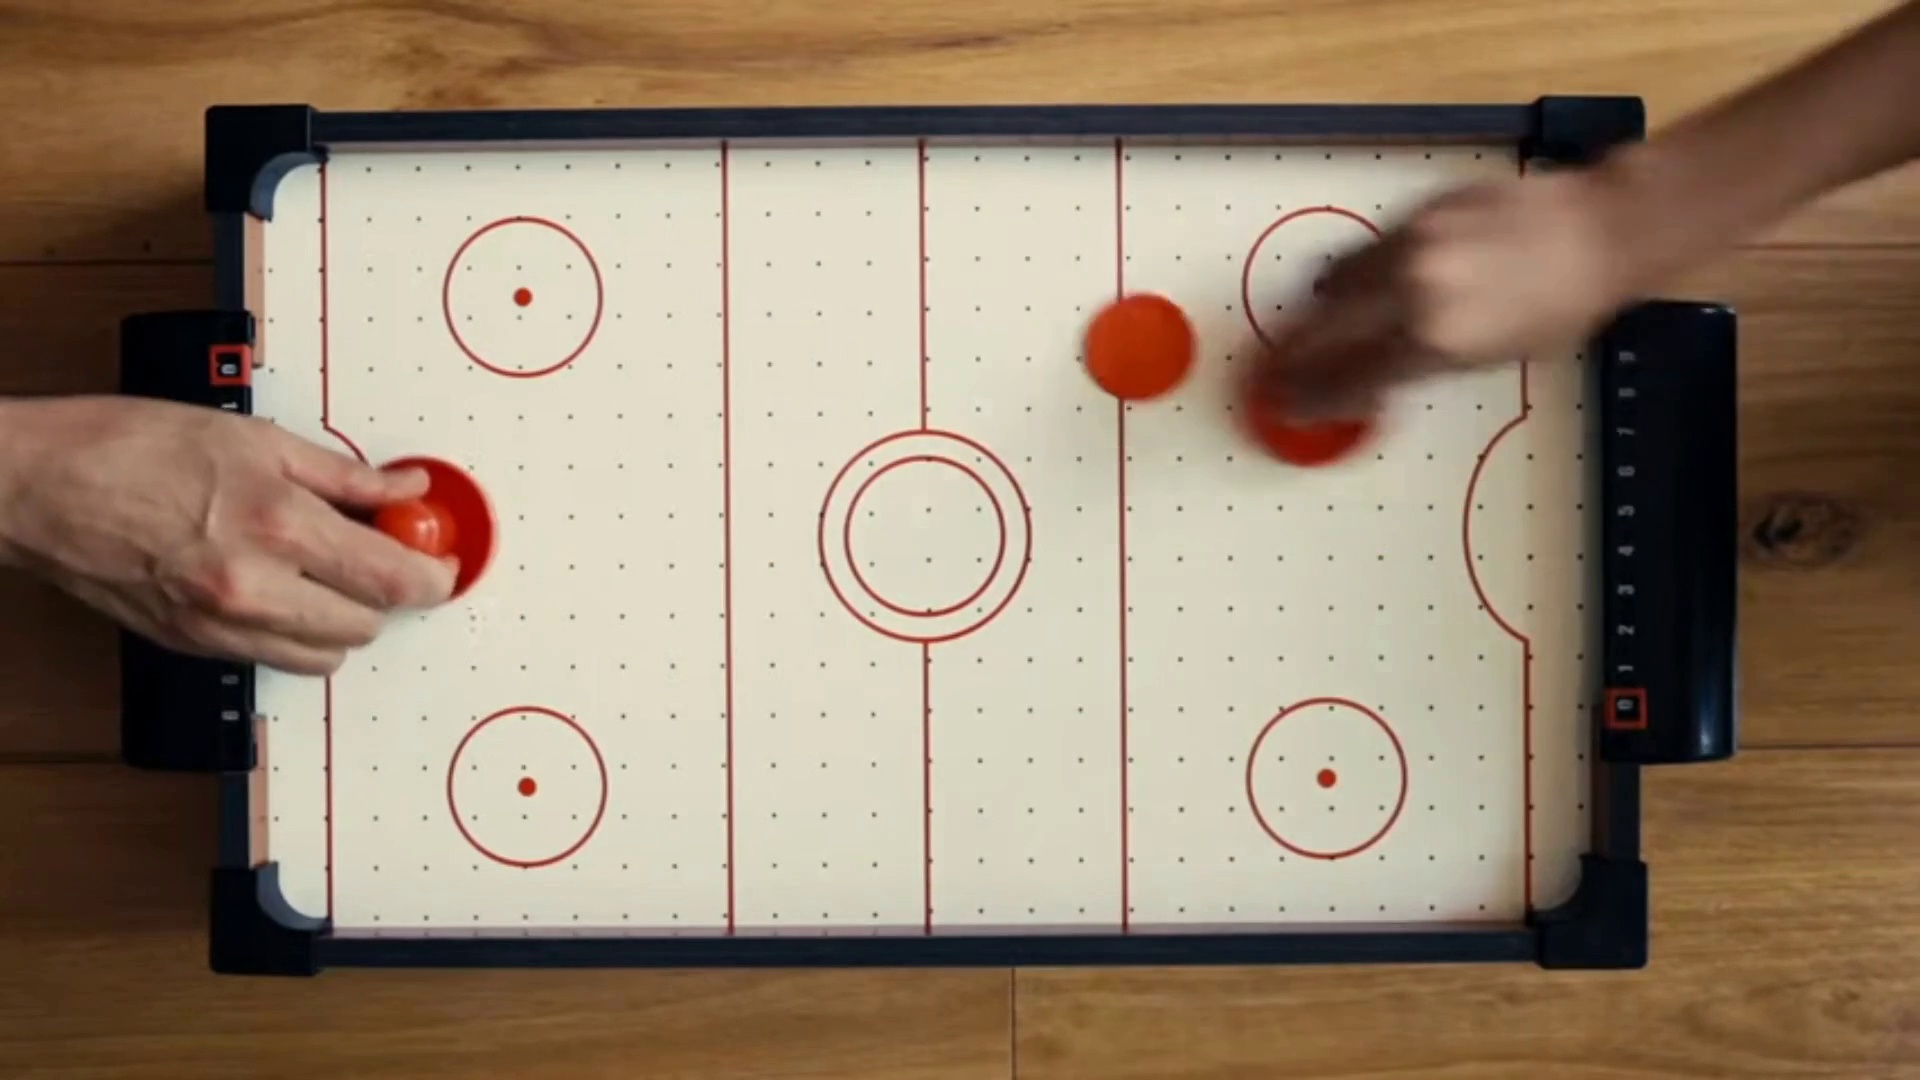player1: (348, 456, 496, 608)
player2: (1237, 337, 1384, 469)
puck: (1078, 294, 1195, 405)
table: (259, 148, 1596, 927)
